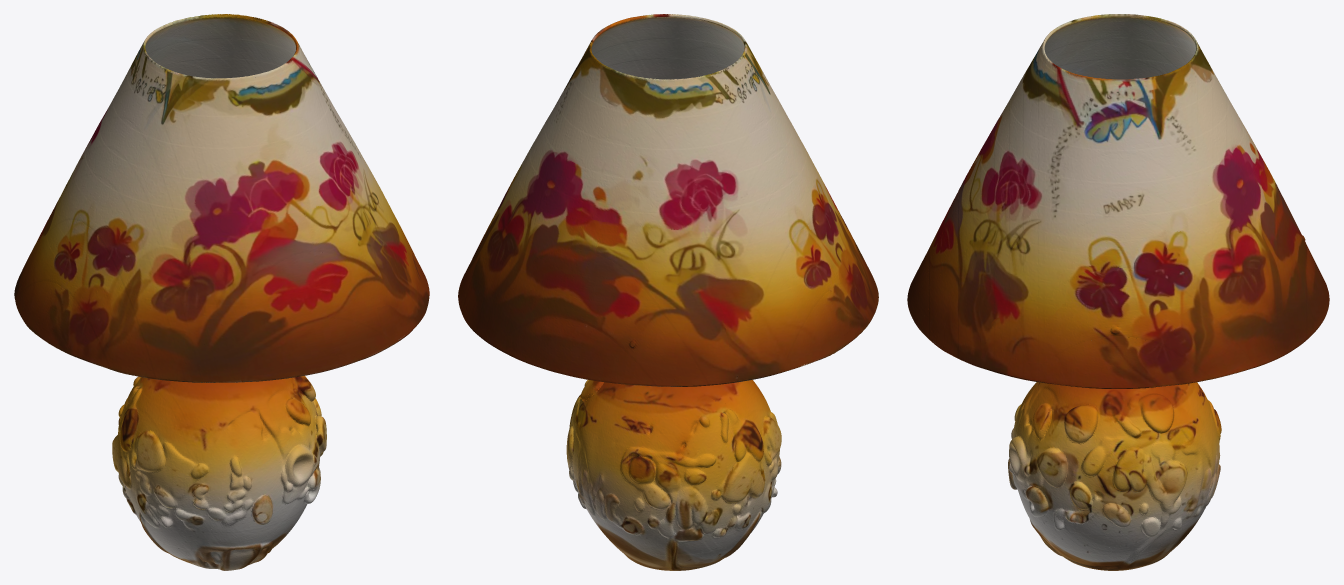
The picture shows the model from 3 angles, left to right: view 1: azimuth 30°, elevation 25°; view 2: azimuth 150°, elevation 25°; view 3: azimuth 270°, elevation 25°; orthographic projection.
Visible parts, largest first — view 1: tripo_node_f55624a6-286c-4499-afb4-5e1f4c76f7da; view 2: tripo_node_f55624a6-286c-4499-afb4-5e1f4c76f7da; view 3: tripo_node_f55624a6-286c-4499-afb4-5e1f4c76f7da.
Boxes of the visible parts, left/top/right/bottom form: tripo_node_f55624a6-286c-4499-afb4-5e1f4c76f7da: left=14, top=14, right=429, bottom=570; tripo_node_f55624a6-286c-4499-afb4-5e1f4c76f7da: left=458, top=14, right=878, bottom=570; tripo_node_f55624a6-286c-4499-afb4-5e1f4c76f7da: left=907, top=14, right=1329, bottom=570.
Bounding box in the file's own units: 0.7506 × 1 × 0.7492.
Materials: 1 (1 with a texture image).
